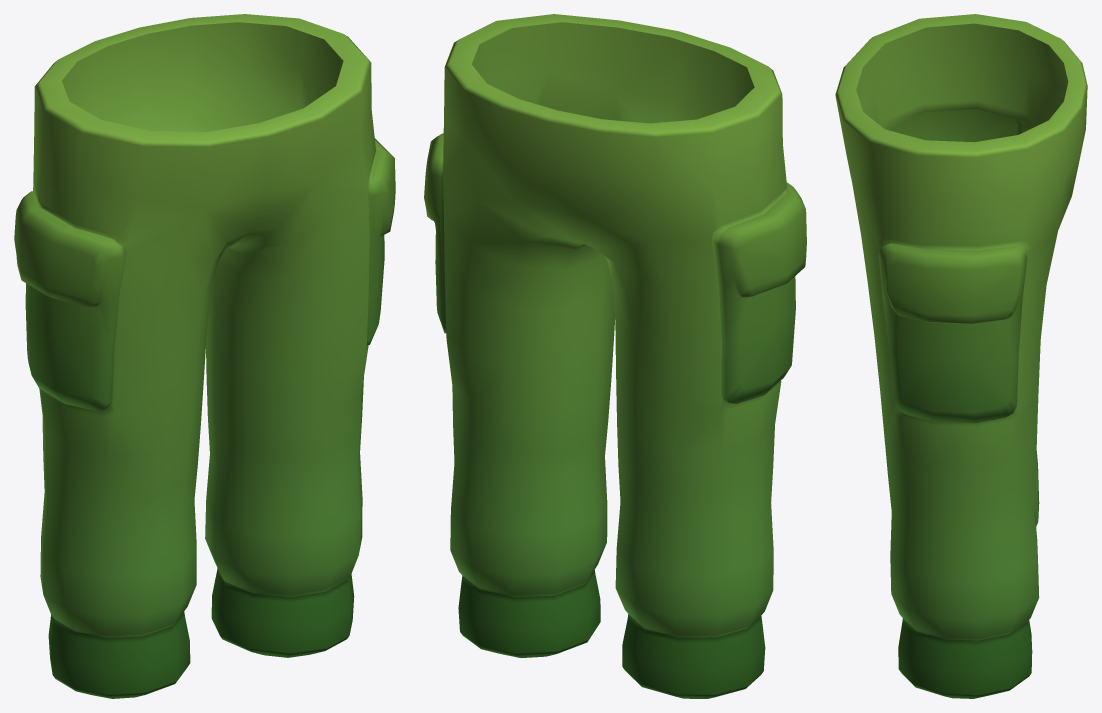
File: pants_010.glb
The picture shows the model from 3 angles, left to right: view 1: azimuth 30°, elevation 25°; view 2: azimuth 150°, elevation 25°; view 3: azimuth 270°, elevation 25°; orthographic projection. The views are drawn at different scales.
Parts seen in each view (by area): view 1: Pants_010; view 2: Pants_010; view 3: Pants_010.
Boxes of the visible parts, left/top/right/bottom form: Pants_010: left=14, top=14, right=395, bottom=698; Pants_010: left=424, top=14, right=806, bottom=698; Pants_010: left=835, top=14, right=1087, bottom=698.
Bounding box in the file's own units: 0.4405 × 0.6995 × 0.2845.
Materials: 1 (1 with a texture image).
